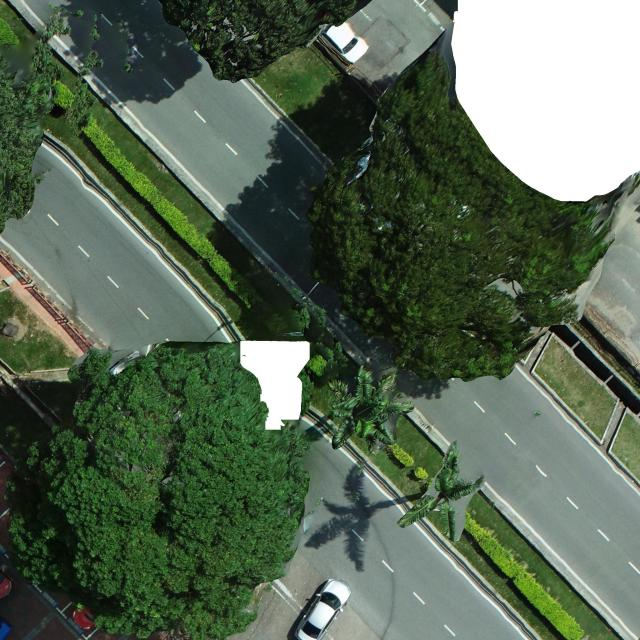Tree: (306, 44, 621, 387), (3, 339, 313, 639), (158, 0, 364, 84), (396, 440, 486, 542), (325, 364, 416, 454)
